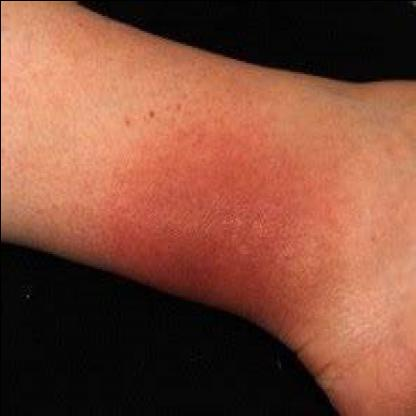Wasp: (146, 183, 264, 282)
